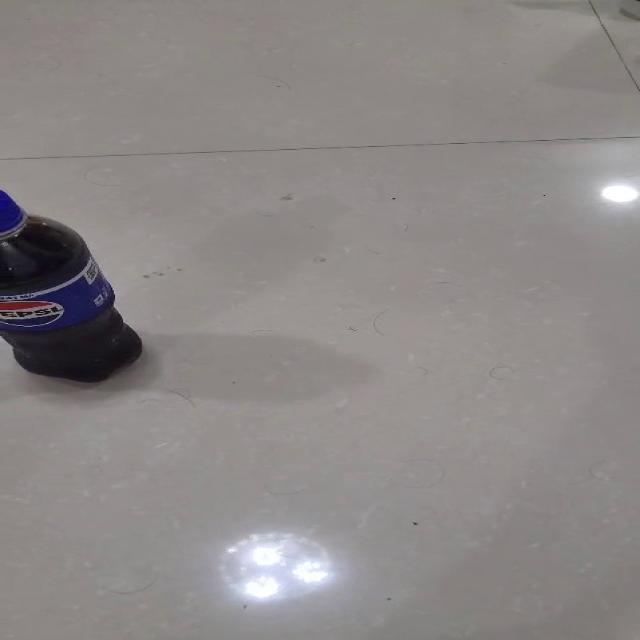plastic: (0, 188, 143, 383)
